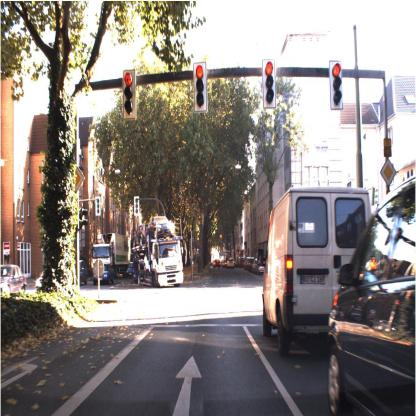other: (378, 154, 398, 188), (68, 160, 88, 192)
